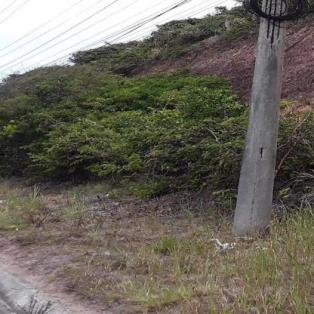Poste: (227, 0, 313, 239)
